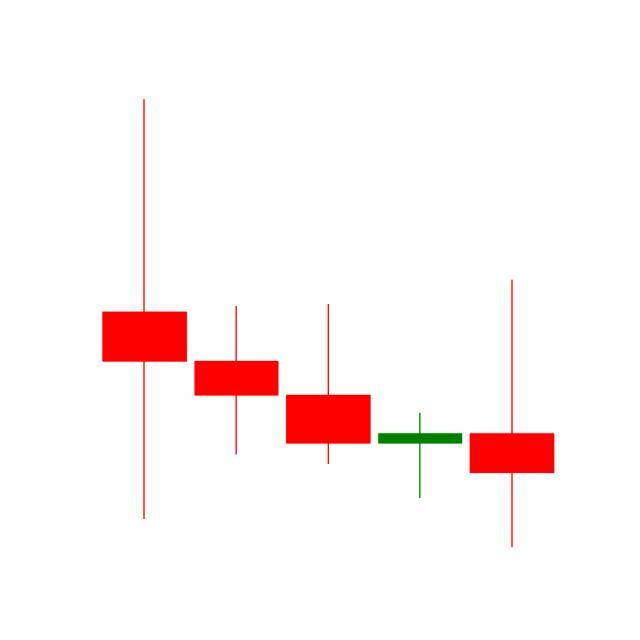Hammer: (374, 412, 468, 499)
